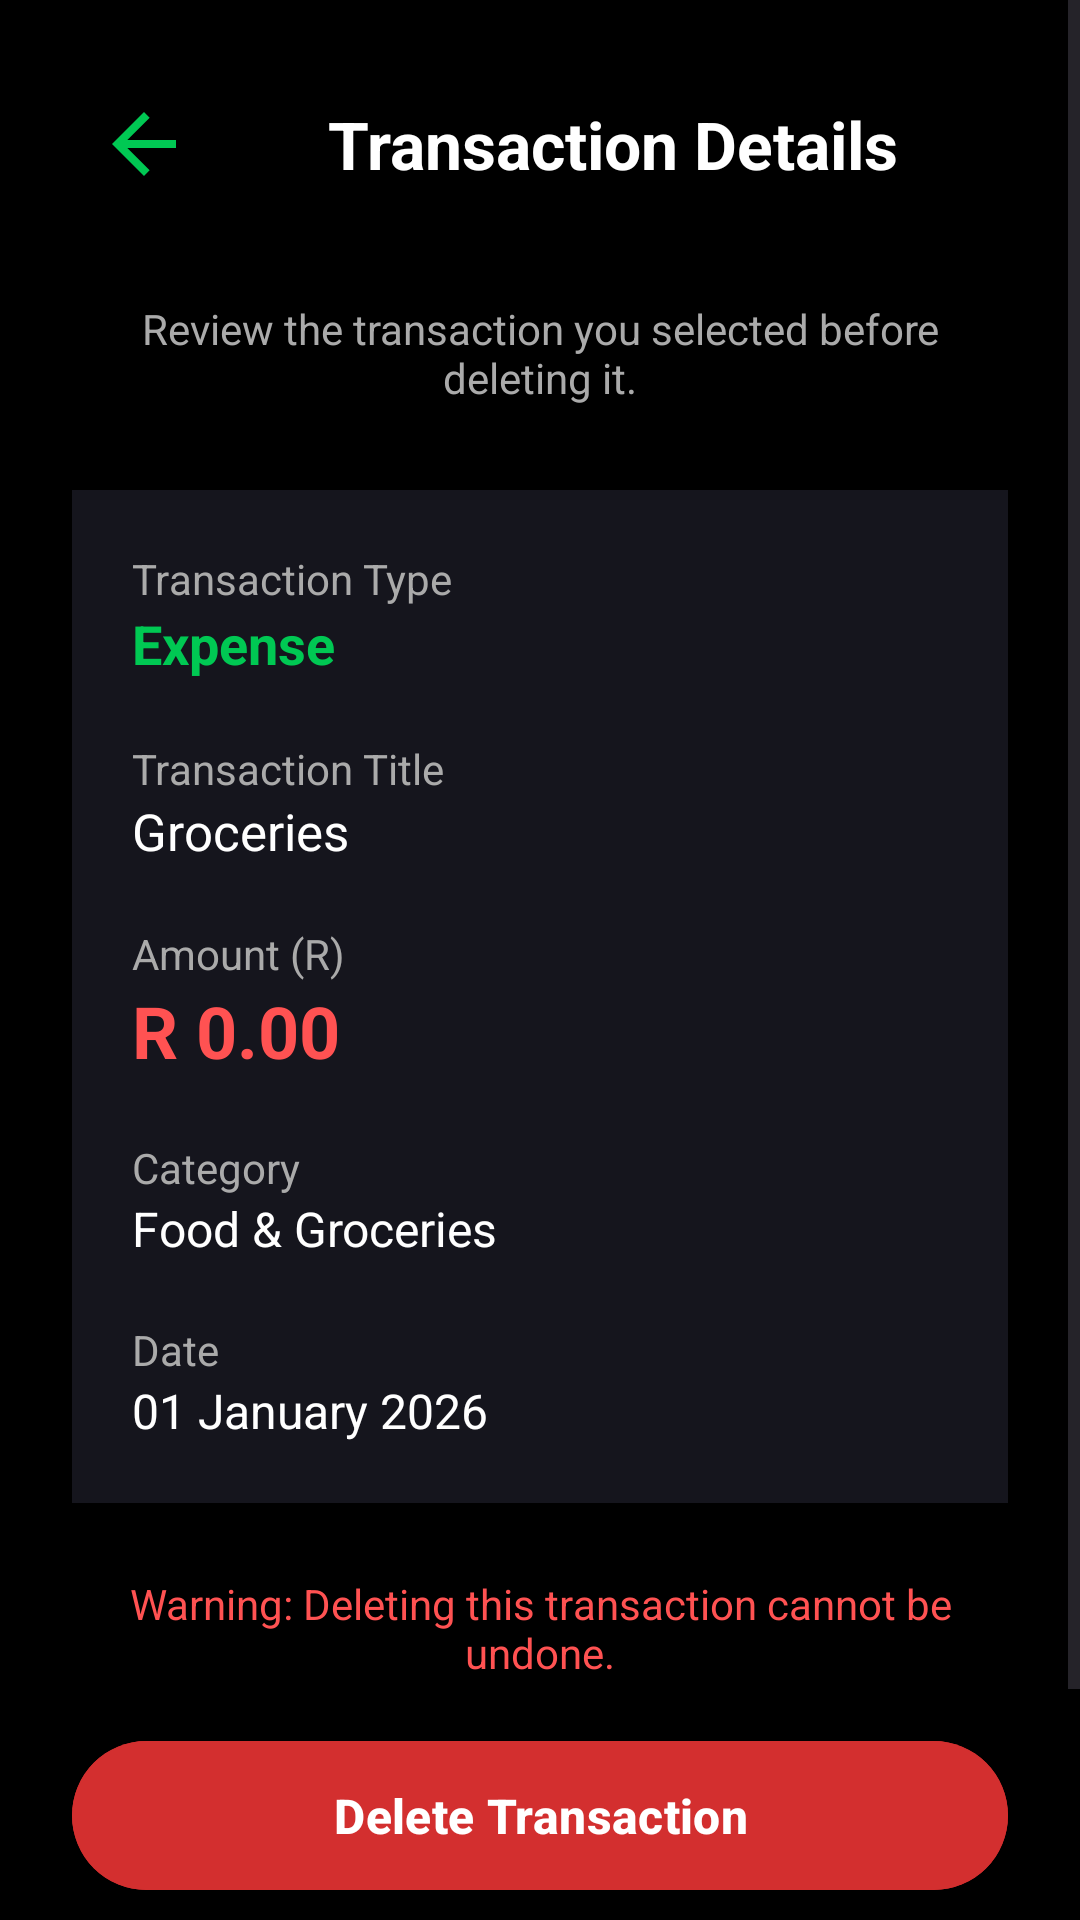

Icons on this 1080×1920 Android screen, each with its box as (x1, y1, x2, y2):
Back: (112, 112, 176, 176)
